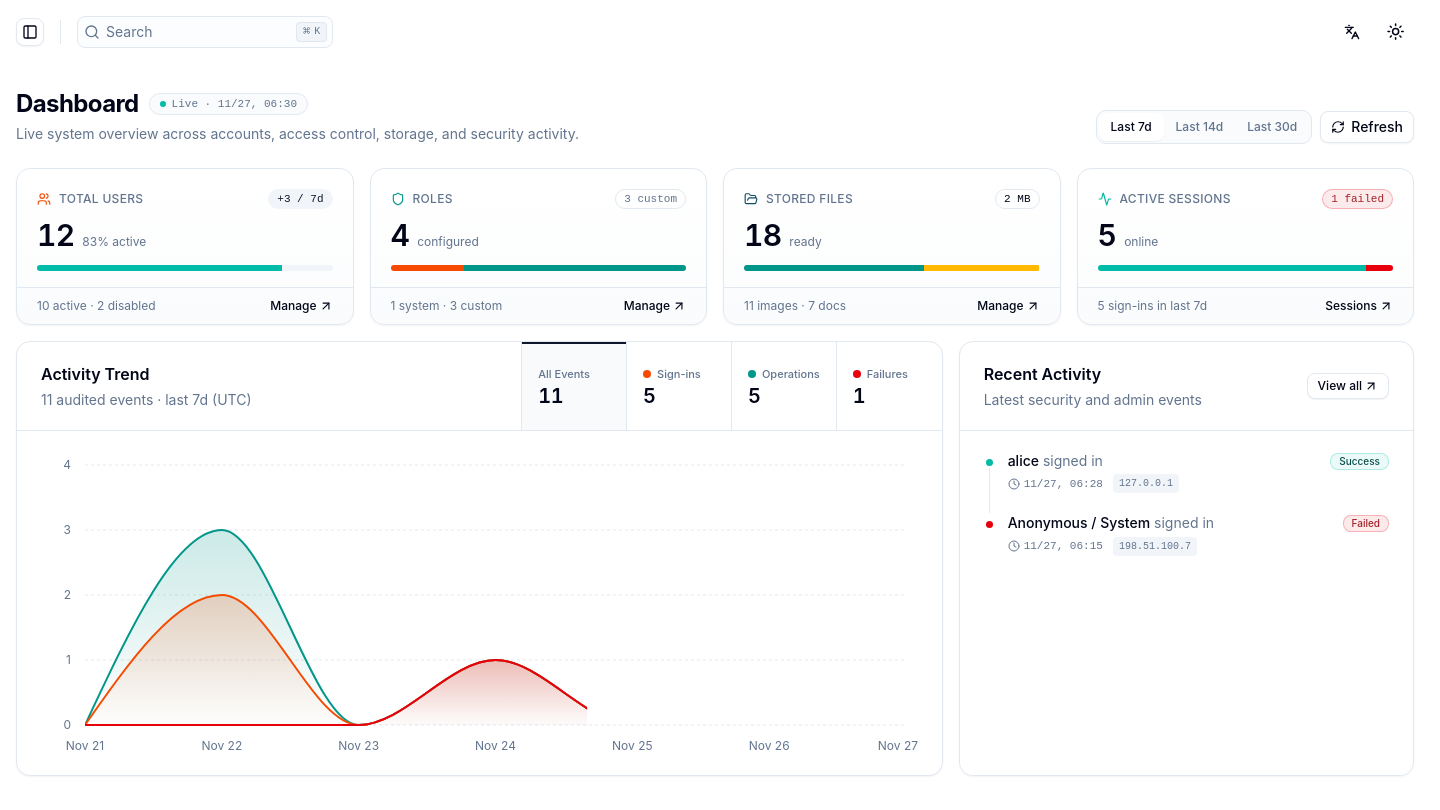
Scenario: Dashboard page › renders KPI cards, trend chart, recent activity, and switches time ranges
The image size is (1440, 810).
Later steps or results of the test are not shown.
Check: the text with test id "dashboard-kpi-users-value" reads "12", box [37,217,74,253]
Check: the text with test id "dashboard-kpi-roles-value" reads "4", box [390,217,409,253]
Note: Switch to 14-day window and verify API request + aria-pressed state.
Step 1. Click the button with test id "dashboard-range-14" → (1199, 127), box [1164,113,1235,141]
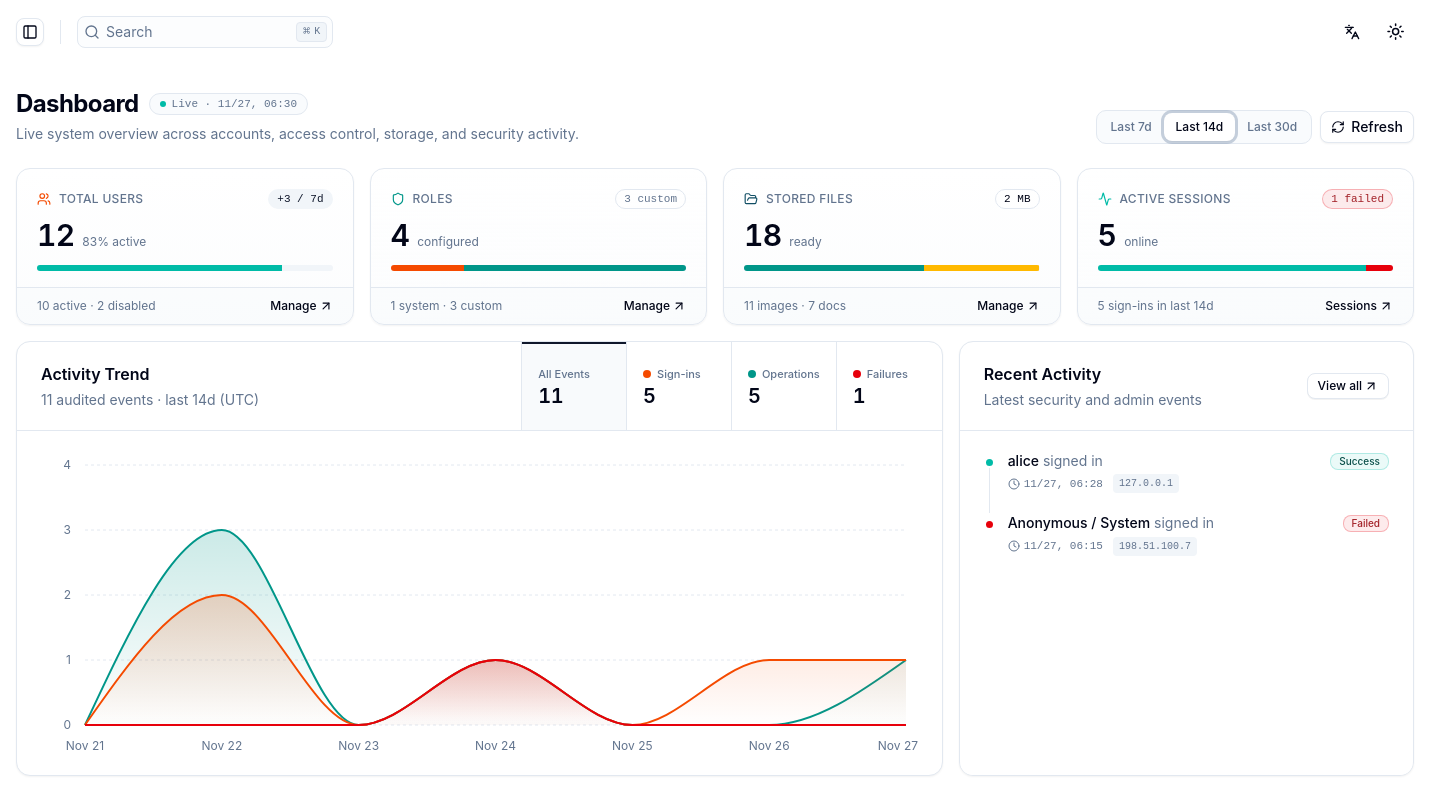
Check: the button with test id "dashboard-series-all" shows "11", box [522,342,627,430]
Check: the button with test id "dashboard-range-14" is pressed, box [1164,113,1235,141]
